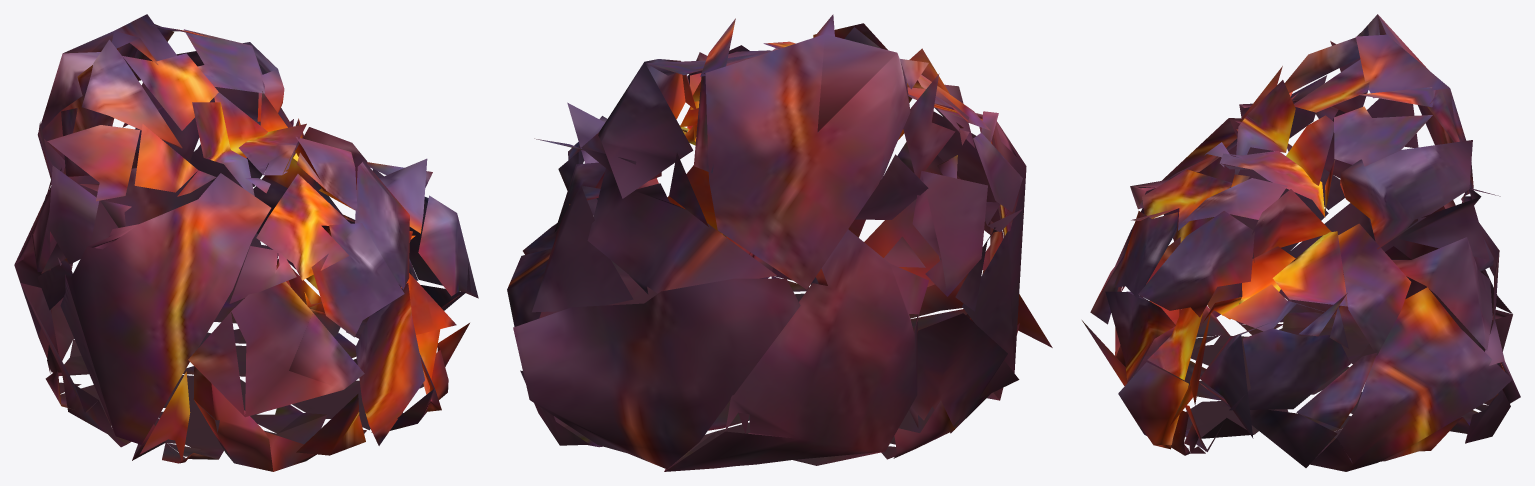
File: rocha-lod.glb
3 renders of one model, left to right at view 1: azimuth 30°, elevation 25°; view 2: azimuth 150°, elevation 25°; view 3: azimuth 270°, elevation 25°, orthographic. The views are drawn at different scales.
Visible parts, largest first — view 1: rocha; view 2: rocha; view 3: rocha.
Boxes of the visible parts, bbox=[...] form: rocha: bbox=[14, 14, 478, 471]; rocha: bbox=[507, 14, 1052, 471]; rocha: bbox=[1082, 14, 1520, 471].
Bounding box in the file's own units: 1.24 × 1.04 × 1.23.
1 material, 1 textured.
